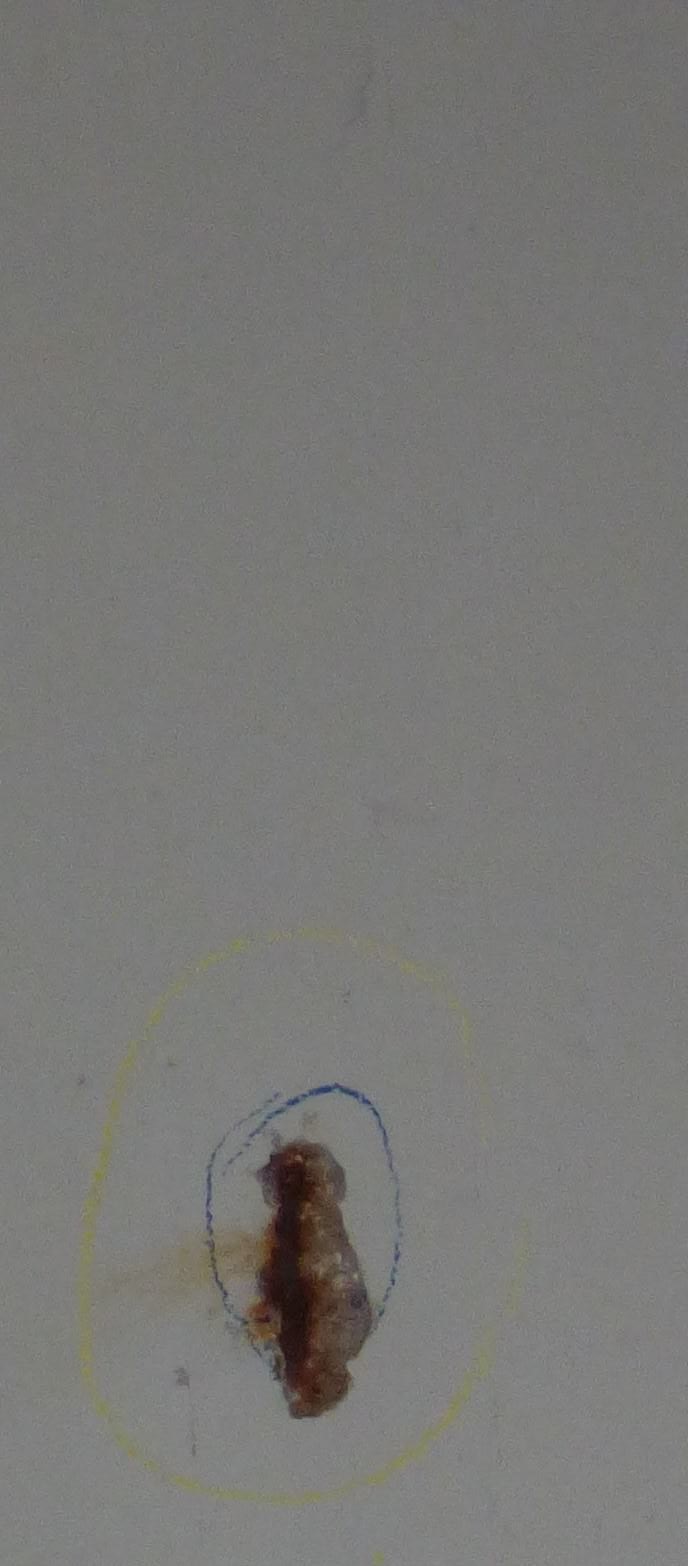Exposed reinforcement: (271, 1161, 308, 1381)
Spalling: (248, 1135, 372, 1421)
